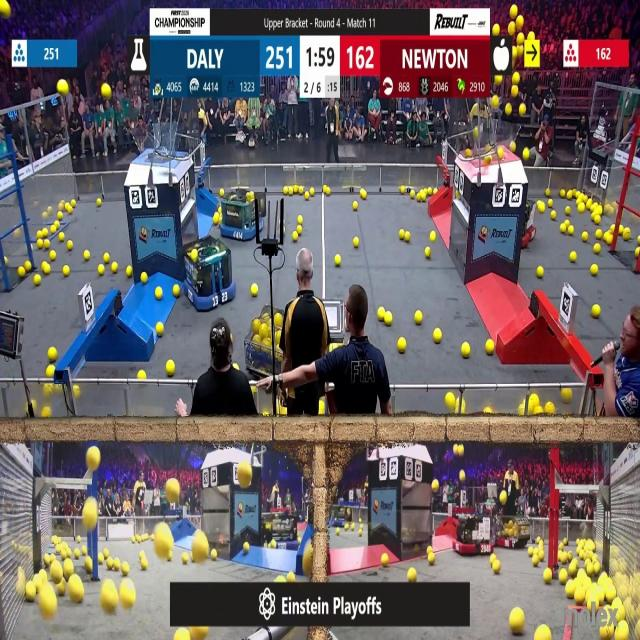ball_airborne: (85, 497, 99, 531), (238, 462, 253, 488), (88, 448, 102, 471), (167, 480, 180, 504), (1, 0, 10, 16), (59, 80, 69, 94), (102, 86, 111, 100), (511, 5, 519, 18), (492, 96, 500, 108), (512, 87, 520, 98), (499, 492, 506, 504), (507, 24, 514, 36), (518, 102, 524, 116), (492, 26, 500, 36), (514, 72, 520, 85), (517, 16, 524, 27), (520, 104, 526, 116), (524, 148, 530, 160), (505, 104, 511, 116), (432, 480, 438, 492), (517, 33, 525, 42), (458, 446, 464, 457), (494, 76, 502, 84), (511, 143, 517, 153), (512, 46, 518, 56), (498, 148, 503, 159), (460, 470, 465, 480), (528, 32, 534, 40), (485, 158, 491, 166), (466, 148, 470, 156), (500, 40, 505, 46)
ball_ground: (510, 610, 526, 636), (573, 590, 584, 605), (27, 584, 36, 602), (486, 340, 495, 356), (167, 359, 176, 375), (605, 588, 615, 602), (558, 569, 568, 583), (562, 388, 572, 402), (461, 344, 470, 359), (397, 338, 405, 354), (409, 568, 418, 582), (568, 562, 577, 576), (433, 330, 441, 344), (385, 312, 393, 326), (42, 263, 50, 276), (46, 364, 54, 377), (155, 322, 163, 335), (41, 408, 50, 419), (543, 568, 550, 582), (415, 312, 423, 324), (378, 309, 386, 321), (58, 584, 66, 596), (592, 306, 600, 318), (121, 562, 128, 575), (286, 572, 294, 583), (536, 267, 543, 279), (251, 284, 258, 296), (63, 266, 70, 278), (173, 284, 180, 296), (112, 560, 120, 570), (275, 314, 283, 324), (591, 266, 598, 277), (34, 275, 41, 286), (181, 553, 188, 564), (138, 369, 146, 378), (110, 264, 117, 274), (17, 268, 24, 278), (336, 254, 342, 265), (398, 231, 404, 242), (588, 564, 594, 575), (424, 248, 430, 258), (212, 551, 218, 561), (99, 266, 105, 276), (429, 233, 435, 243), (104, 252, 110, 262), (570, 252, 576, 262), (26, 263, 32, 273), (353, 238, 359, 248), (538, 202, 544, 212), (244, 542, 250, 552), (127, 268, 133, 278), (560, 223, 566, 232), (596, 231, 602, 240), (292, 233, 298, 242), (594, 244, 600, 253), (68, 240, 73, 250), (49, 250, 54, 260), (583, 234, 589, 242), (546, 200, 552, 208), (360, 189, 365, 198), (294, 229, 298, 240), (353, 202, 358, 210), (568, 226, 573, 234), (97, 200, 102, 208), (411, 190, 416, 198), (561, 189, 566, 197), (408, 230, 412, 240), (297, 215, 301, 224), (36, 237, 40, 246), (636, 248, 640, 257), (272, 540, 277, 547), (422, 194, 426, 202), (306, 191, 310, 199), (610, 224, 614, 232), (428, 545, 432, 552), (297, 225, 301, 232), (337, 528, 341, 535)
goal: (467, 122, 518, 160), (132, 132, 188, 159)
robot_blue: (183, 236, 235, 313), (220, 190, 262, 243), (265, 512, 299, 543), (330, 506, 352, 526)
robot_red: (246, 306, 283, 389), (458, 519, 497, 557), (497, 516, 533, 548)
